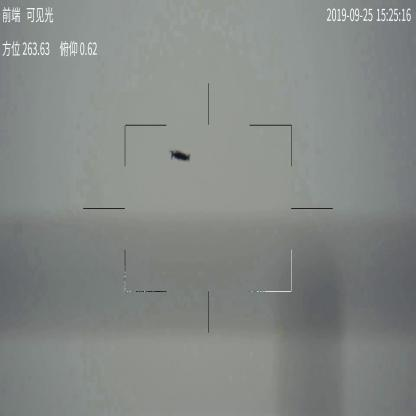uav: (168, 147, 190, 168)
